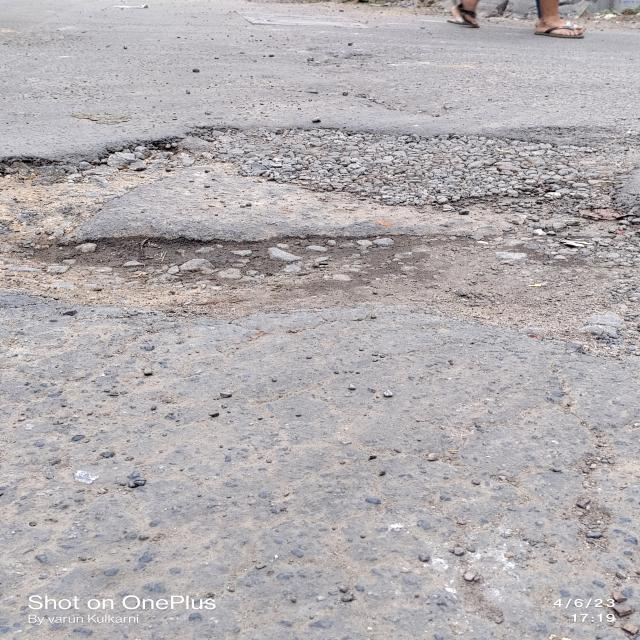potholes: (3, 124, 640, 328)
